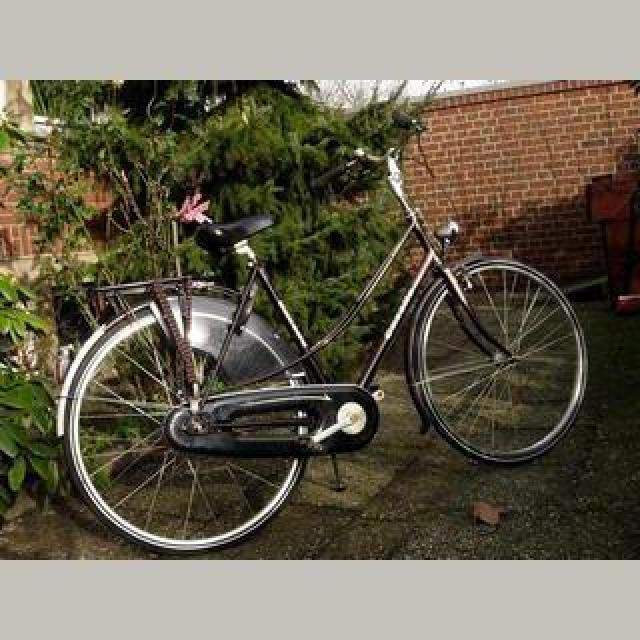Person: (44, 118, 602, 554)
